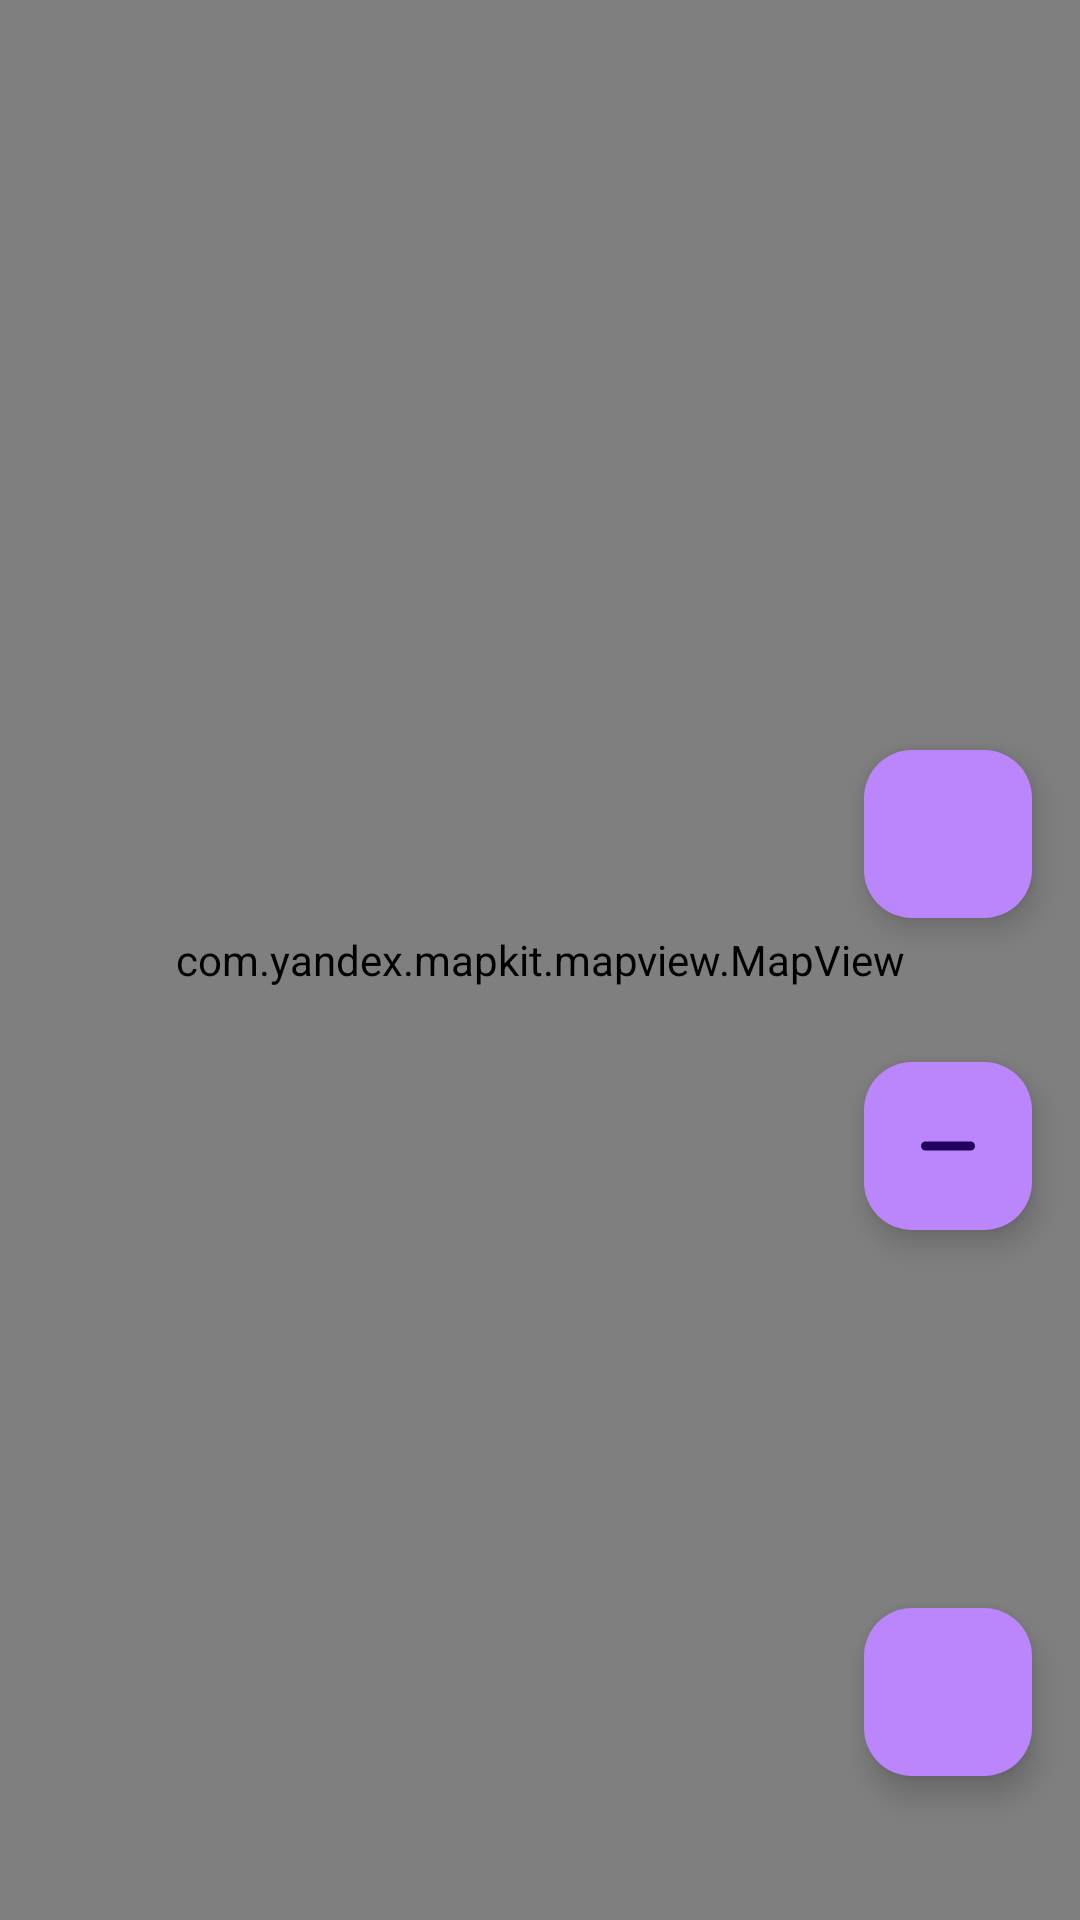

Icon click points for this 1080w x 1920h phone screenshot, format (x=x, y=y):
Zoom out: (x=948, y=1146)
